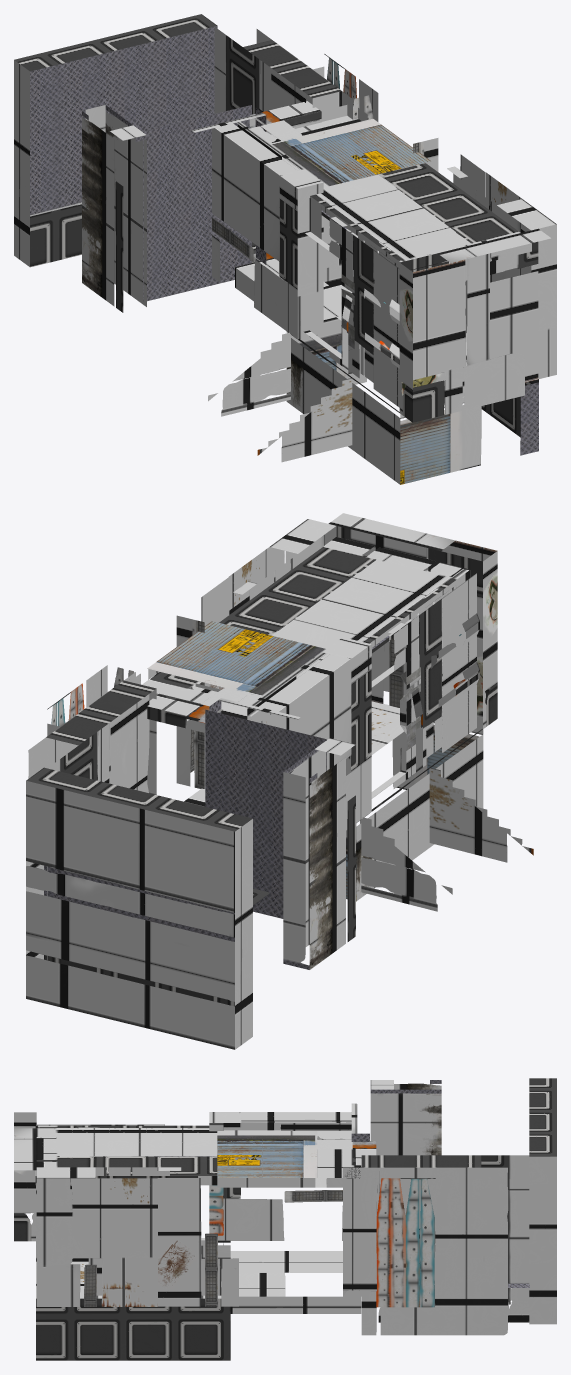
Rendered from FinalWindowTexturedV2.obj.
The picture shows the model from 3 angles, top to bottom: view 1: azimuth 30°, elevation 25°; view 2: azimuth 150°, elevation 25°; view 3: azimuth 270°, elevation 25°; orthographic projection. The views are drawn at different scales.
Parts seen in each view (by area): view 1: initialShadingGroup polySurface719, initialShadingGroup polySurface721, initialShadingGroup polySurface717, initialShadingGroup polySurface674, initialShadingGroup polySurface623, initialShadingGroup polySurface686, initialShadingGroup polySurface720, initialShadingGroup polySurface718, initialShadingGroup polySurface567, initialShadingGroup polySurface624, initialShadingGroup polySurface650, initialShadingGroup polySurface544 (+2 smaller); view 2: initialShadingGroup polySurface719, initialShadingGroup polySurface717, initialShadingGroup polySurface720, initialShadingGroup polySurface686, initialShadingGroup polySurface567, initialShadingGroup polySurface718, initialShadingGroup polySurface674, initialShadingGroup polySurface721, initialShadingGroup polySurface624, initialShadingGroup polySurface623, initialShadingGroup polySurface650, initialShadingGroup polySurface568 (+1 smaller); view 3: initialShadingGroup polySurface718, initialShadingGroup polySurface650, initialShadingGroup polySurface717, initialShadingGroup polySurface623, initialShadingGroup polySurface674, initialShadingGroup polySurface719, initialShadingGroup polySurface544, initialShadingGroup polySurface720, initialShadingGroup polySurface721, initialShadingGroup polySurface568, initialShadingGroup polySurface449 polySurface695, initialShadingGroup polySurface686.
Boxes of the visible parts, x1,y1,x2,y2 form: initialShadingGroup polySurface719: [14, 14, 217, 267]; initialShadingGroup polySurface721: [399, 228, 550, 422]; initialShadingGroup polySurface717: [250, 104, 520, 270]; initialShadingGroup polySurface674: [212, 121, 323, 339]; initialShadingGroup polySurface623: [286, 316, 538, 484]; initialShadingGroup polySurface686: [143, 105, 266, 302]; initialShadingGroup polySurface720: [82, 105, 146, 312]; initialShadingGroup polySurface718: [214, 27, 378, 287]; initialShadingGroup polySurface567: [337, 227, 405, 407]; initialShadingGroup polySurface624: [208, 332, 352, 462]; initialShadingGroup polySurface650: [413, 138, 556, 378]; initialShadingGroup polySurface544: [235, 258, 354, 319]; initialShadingGroup polySurface719: [26, 767, 252, 1049]; initialShadingGroup polySurface717: [136, 537, 470, 720]; initialShadingGroup polySurface720: [283, 738, 355, 969]; initialShadingGroup polySurface686: [205, 698, 326, 918]; initialShadingGroup polySurface567: [400, 573, 479, 777]; initialShadingGroup polySurface718: [28, 665, 156, 959]; initialShadingGroup polySurface674: [247, 637, 371, 830]; initialShadingGroup polySurface721: [328, 513, 497, 728]; initialShadingGroup polySurface624: [360, 767, 533, 911]; initialShadingGroup polySurface623: [346, 701, 483, 901]; initialShadingGroup polySurface650: [176, 519, 336, 788]; initialShadingGroup polySurface568: [147, 693, 222, 732]; initialShadingGroup polySurface718: [343, 1155, 529, 1335]; initialShadingGroup polySurface650: [36, 1167, 238, 1306]; initialShadingGroup polySurface717: [35, 1125, 352, 1187]; initialShadingGroup polySurface623: [36, 1240, 230, 1360]; initialShadingGroup polySurface674: [209, 1112, 351, 1240]; initialShadingGroup polySurface719: [529, 1078, 556, 1324]; initialShadingGroup polySurface544: [230, 1251, 361, 1313]; initialShadingGroup polySurface720: [370, 1080, 441, 1155]; initialShadingGroup polySurface721: [14, 1112, 36, 1241]; initialShadingGroup polySurface568: [351, 1141, 376, 1167]; initialShadingGroup polySurface449 polySurface695: [35, 1176, 217, 1185]; initialShadingGroup polySurface686: [351, 1103, 369, 1141].
Size of the model in its own units: 21.5 by 16.76 by 43.38.
